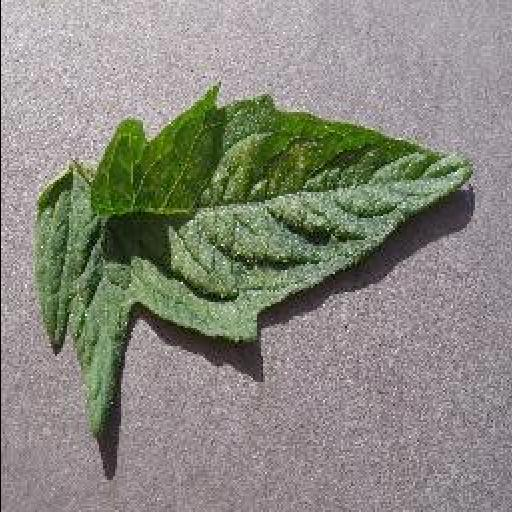disease_tomato: (33, 90, 475, 434)
